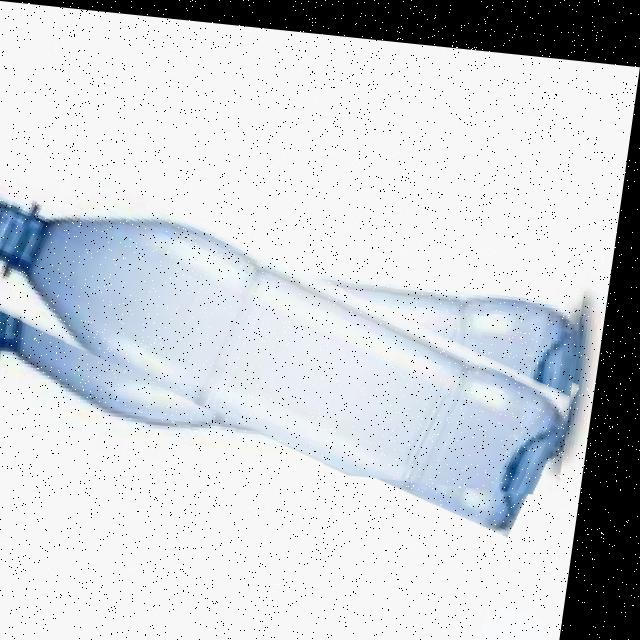litter: (0, 178, 599, 483)
